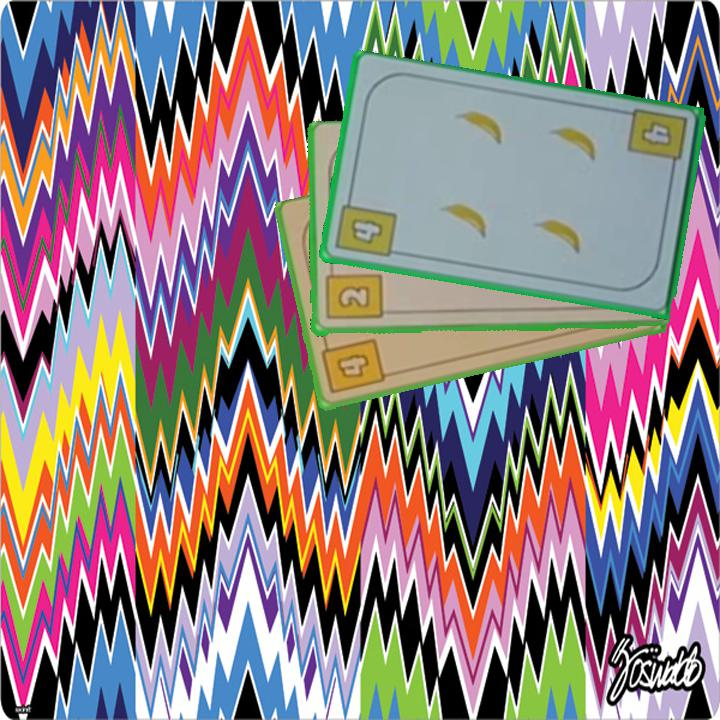2b: (322, 262, 384, 323)
4b: (624, 105, 690, 178), (332, 191, 400, 261), (318, 335, 388, 397)
